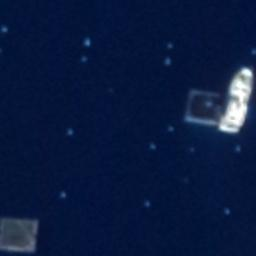square_cover: (1, 210, 44, 256), (179, 85, 226, 127)
